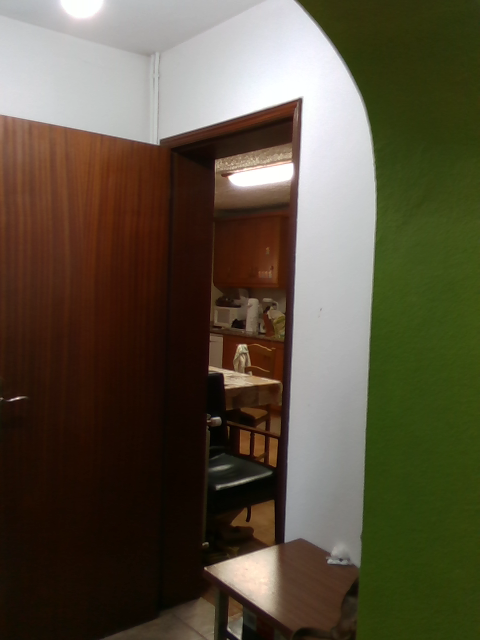open: (0, 104, 298, 639)
